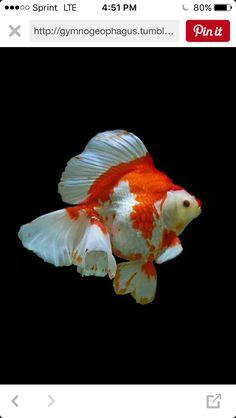goldfish: (19, 125, 216, 313)
